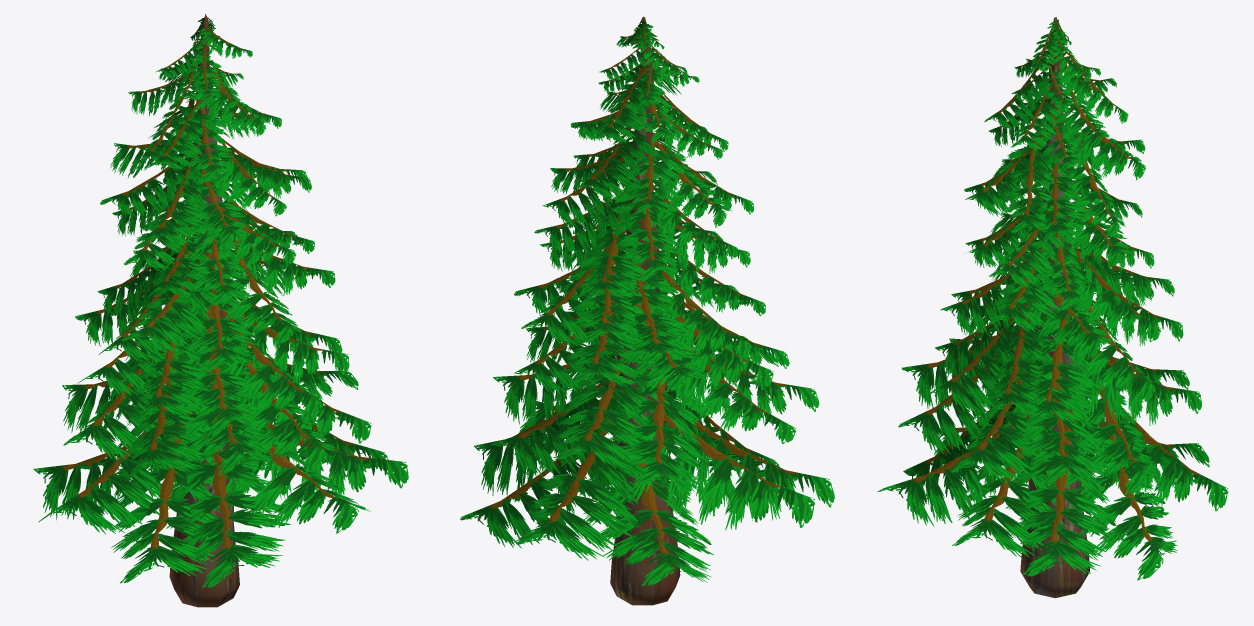
File: Fir_Tree.fbx
3 views of the same model, side by side, from view 1: azimuth 30°, elevation 25°; view 2: azimuth 150°, elevation 25°; view 3: azimuth 270°, elevation 25° (orthographic).
Parts seen in each view (by area): view 1: Plane.001, Cube; view 2: Plane.001, Cube; view 3: Plane.001, Cube.
Part boxes in pixels (bbox=[...]): Plane.001: bbox=[33, 14, 408, 587]; Cube: bbox=[169, 15, 239, 607]; Plane.001: bbox=[460, 16, 834, 585]; Cube: bbox=[610, 17, 680, 605]; Plane.001: bbox=[877, 17, 1228, 580]; Cube: bbox=[1020, 17, 1089, 598].
Size of the model in its own units: 4.16 by 3.73 by 6.44.
Materials: 2 (2 with a texture image).
